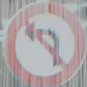Don't turn left: (4, 5, 82, 78)
